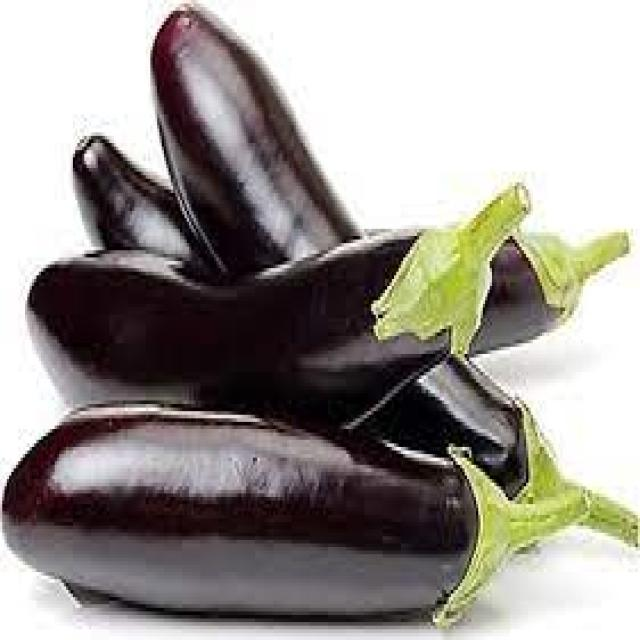eggplant: (71, 128, 576, 340), (9, 404, 501, 619), (23, 218, 487, 408)
